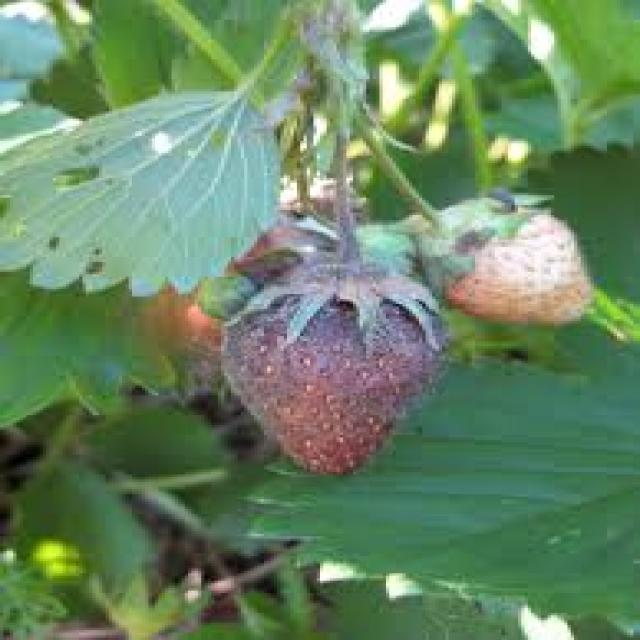Fruta sana: (432, 198, 610, 322)
Podredumbre de cuero: (226, 266, 431, 478)
